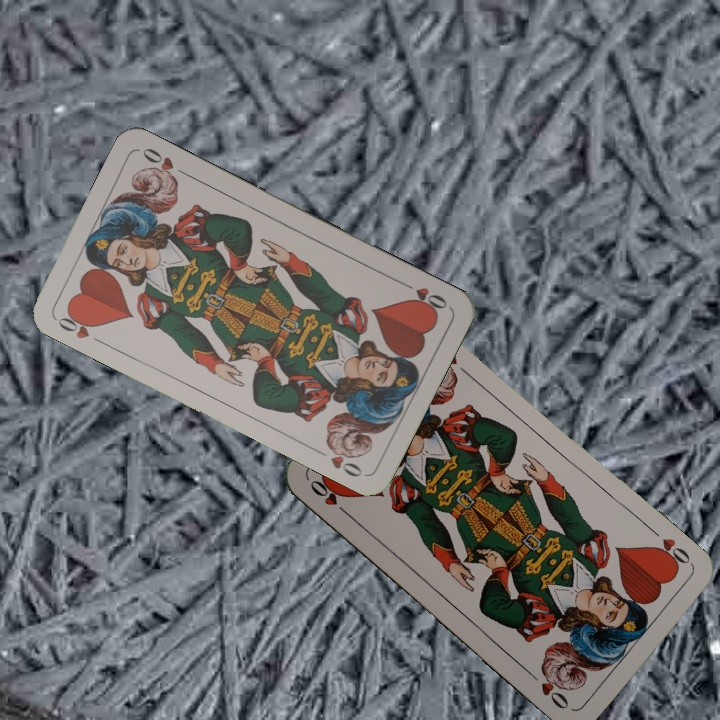HO: (53, 306, 107, 347), (305, 476, 354, 520), (396, 276, 450, 315), (647, 534, 696, 573)
